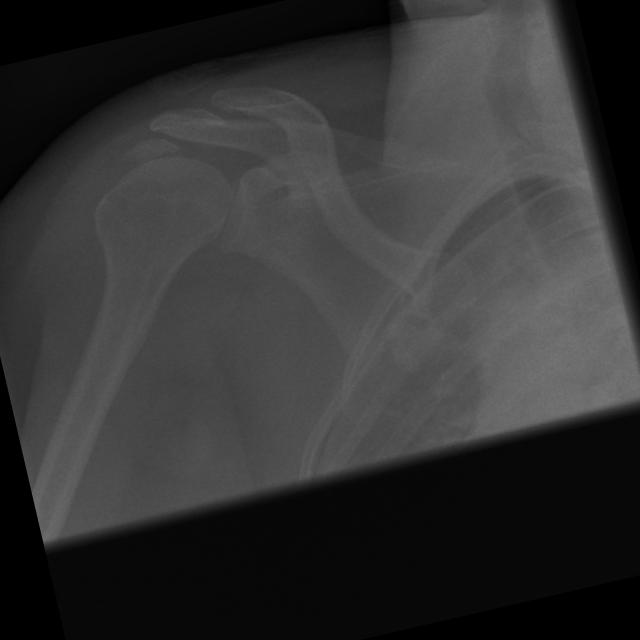shoulder fracture: (130, 8, 353, 208)
